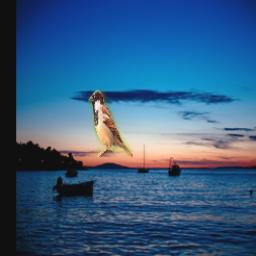Sparrow: (88, 91, 133, 158)
